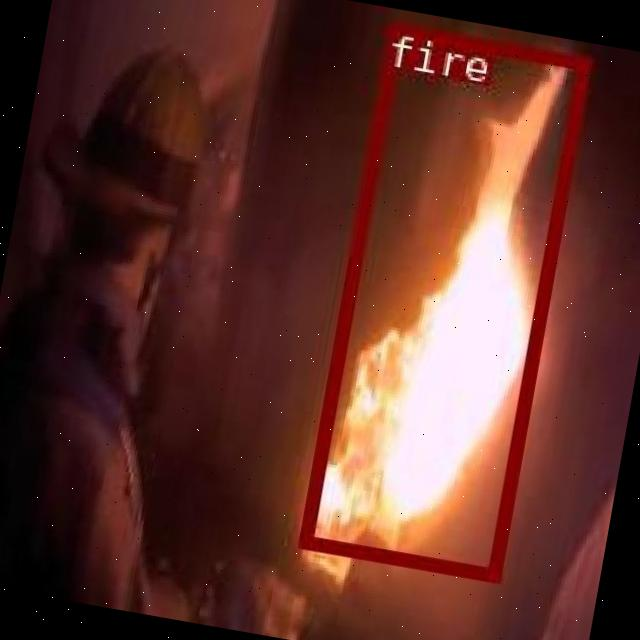fire: (296, 19, 588, 580)
